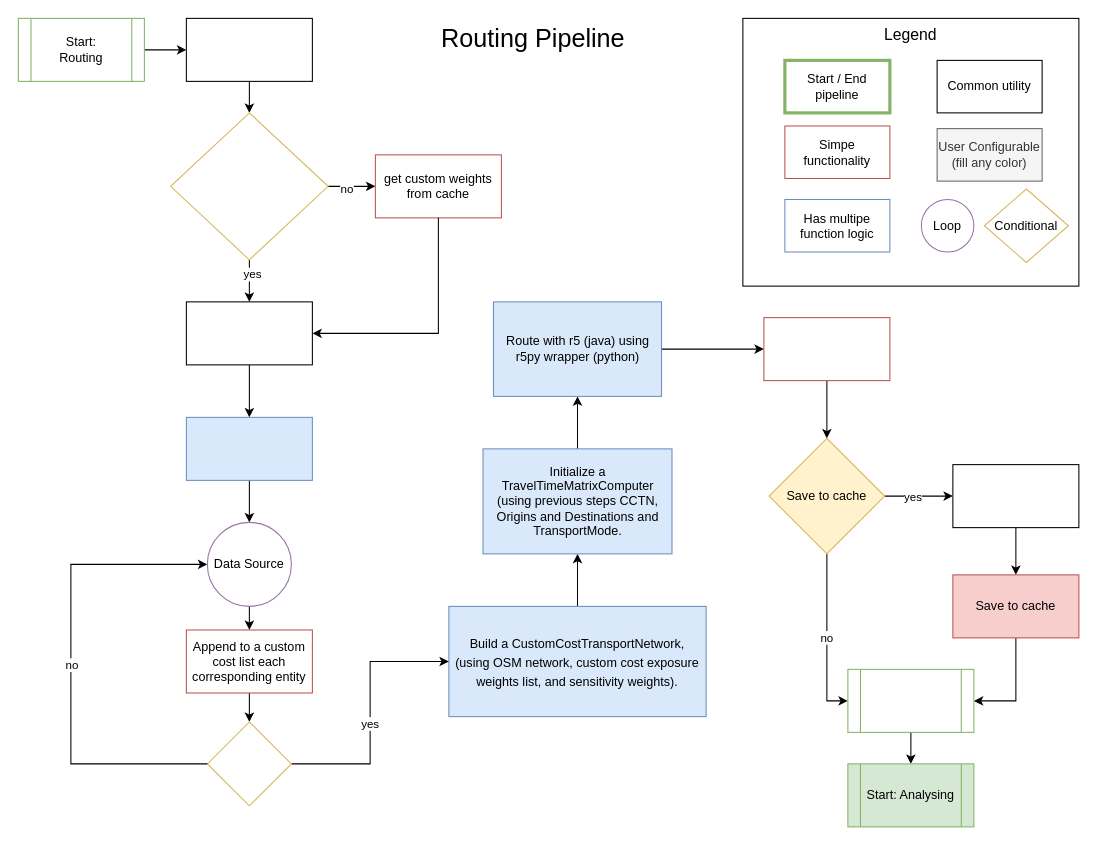
Image size: 1097x845. Some labels were removed from this diagram. The box of each missing label's shape, as (x1, y1, x2, y2) in pixels:
clear routing cache: (185, 17, 312, 81)
Convert dict to gdf: (952, 464, 1079, 528)
convert from gdf to dict: (185, 301, 312, 365)
End: Routing: (847, 668, 974, 732)
Get routing results (OSM ID's): (763, 317, 890, 381)
Has exposure parameter from preprocessing: (170, 112, 328, 260)
Initialize OD (origins, destinations) from user specified file: (185, 416, 312, 480)
Last Data Source: (206, 721, 291, 806)
